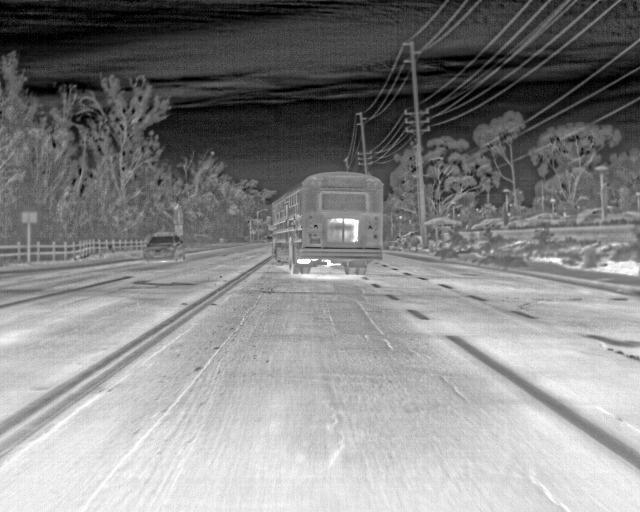car: (143, 232, 183, 264)
